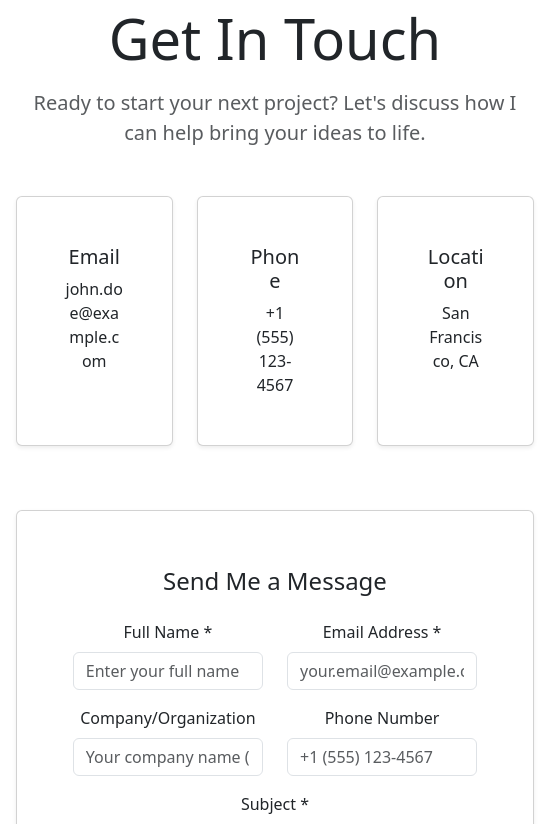
it: Contact Component › should validate email format
The image size is (551, 824).
Type "invalid-email" into the field labelled "Email Address *" at (382,671), box [287,652,477,690]
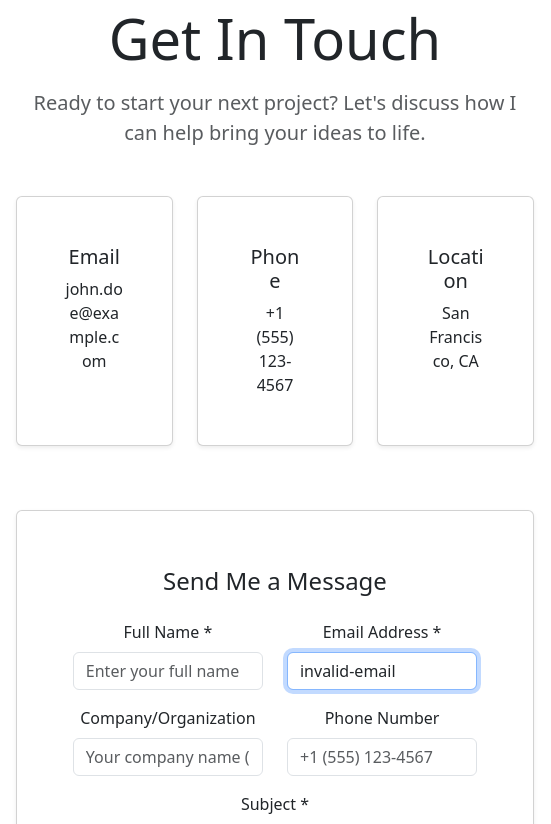
Leave the field labelled "Email Address *", box [287,652,477,690]
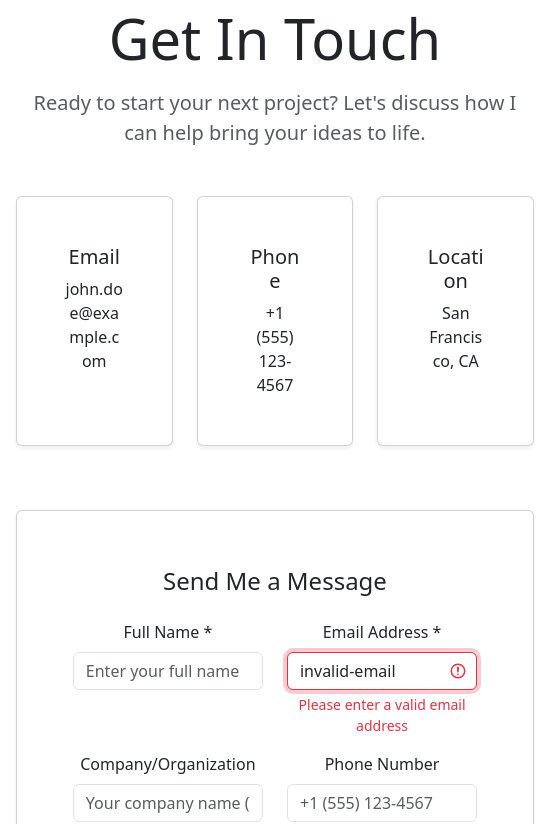
Expected: the text "Please enter a valid email address" is shown, [287,694,477,736]
